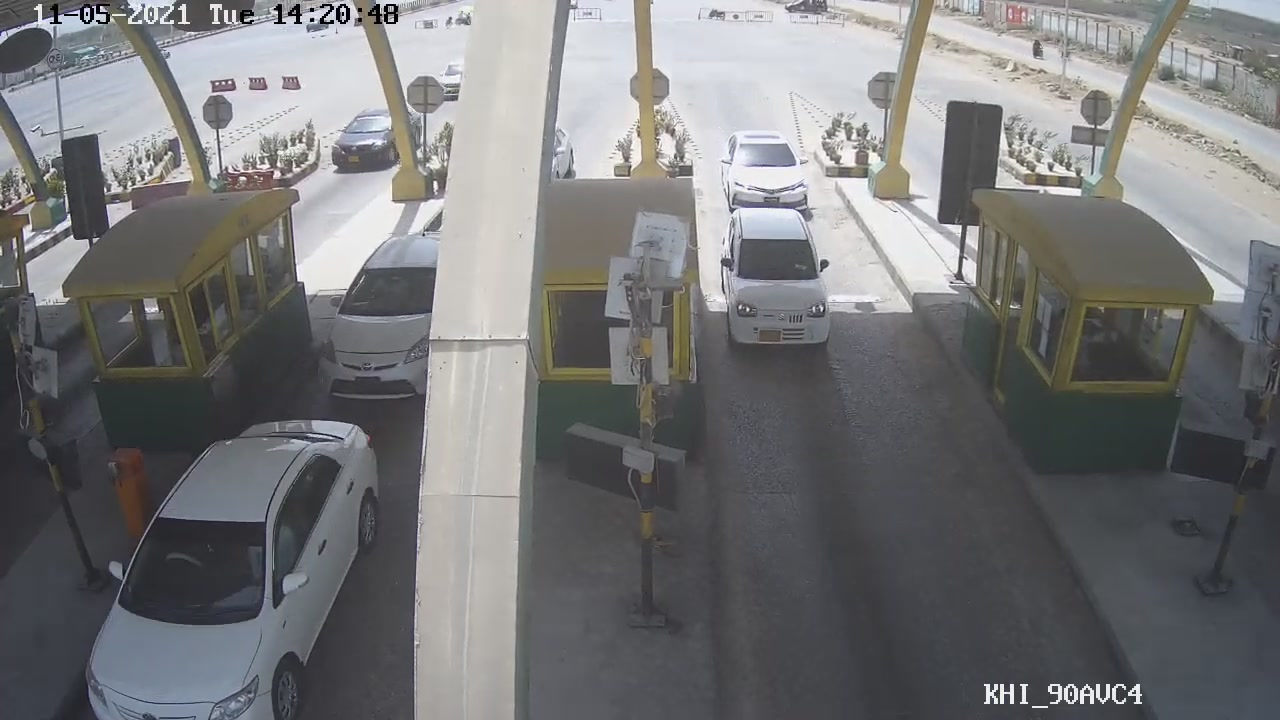F1: (704, 205, 837, 361)
